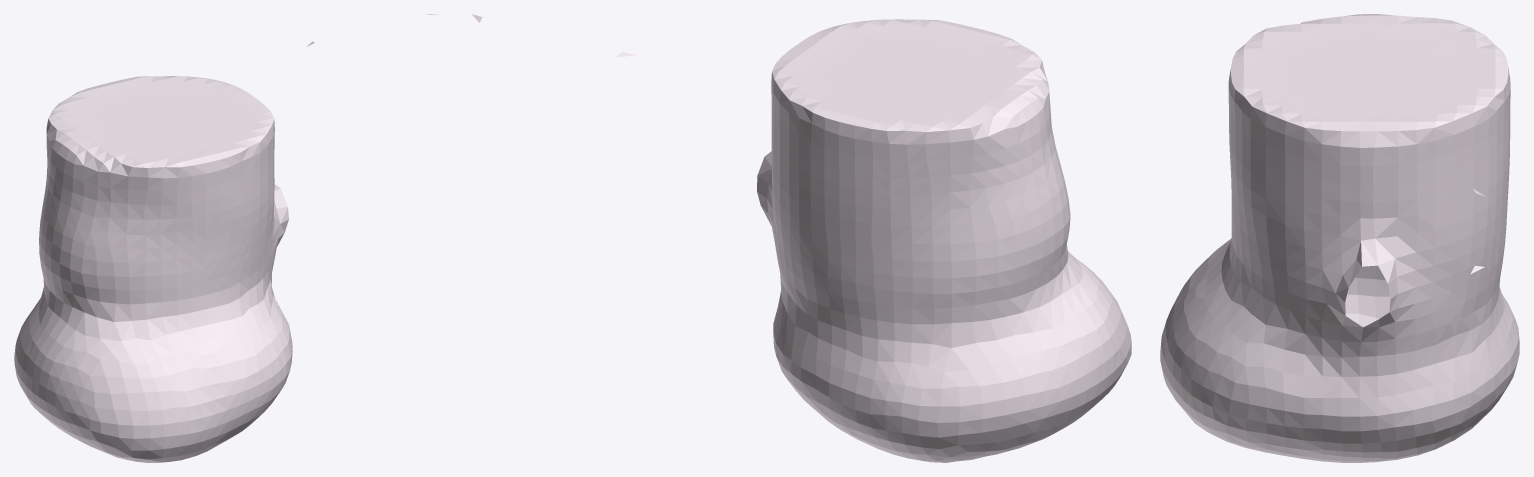
File: kuromipiernader.obj
3 renders of one model, left to right at view 1: azimuth 30°, elevation 25°; view 2: azimuth 150°, elevation 25°; view 3: azimuth 270°, elevation 25°, orthographic. The views are drawn at different scales.
Parts seen in each view (by area): view 1: SubTool-3-3928544_Material.026; view 2: SubTool-3-3928544_Material.026; view 3: SubTool-3-3928544_Material.026.
Part boxes in pixels (x1,y1,x2,y2): SubTool-3-3928544_Material.026: (14,14,437,462); SubTool-3-3928544_Material.026: (472,14,1131,462); SubTool-3-3928544_Material.026: (1160,14,1519,462).
Size of the model in its own units: 1.12 by 0.6822 by 0.5816.
